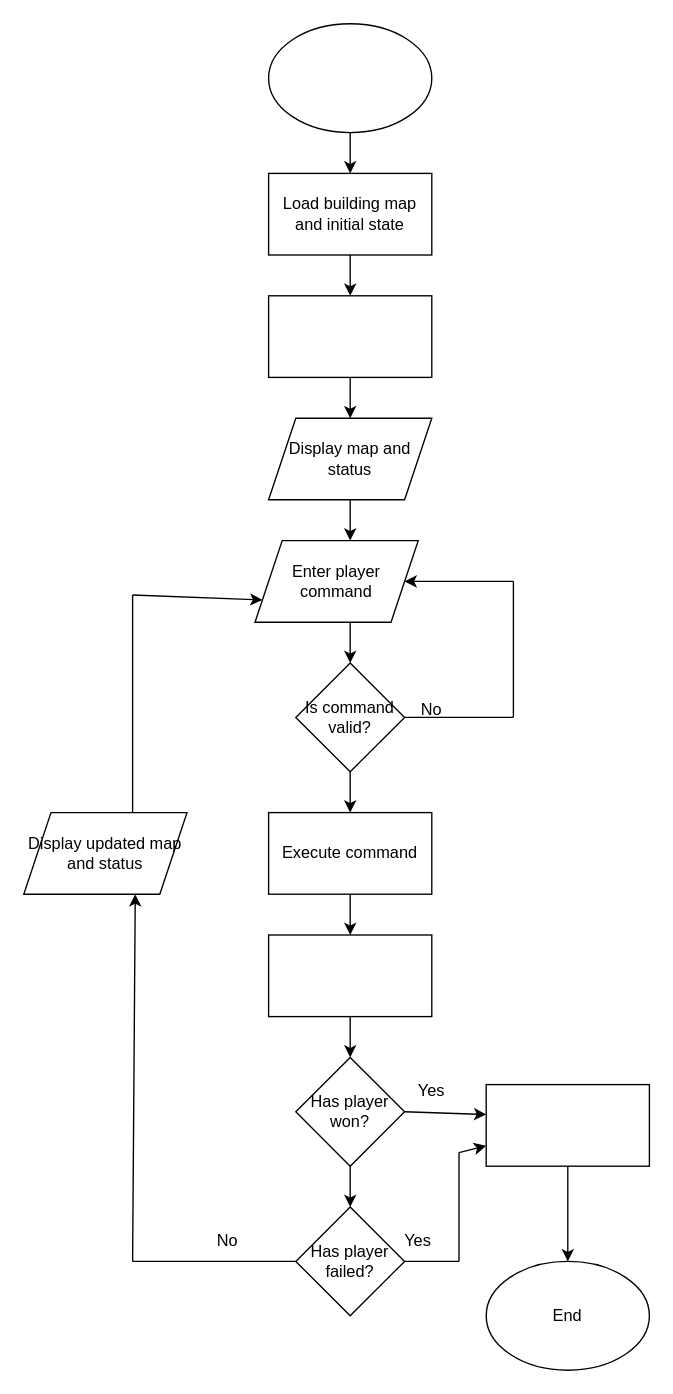
The diagram is 673 pixels wide and 1394 high, and some of its shapes have lost their labels. The centre of each missing label's shape, as x and y in pixels:
"Initialize player and resources" belongs at (x=349, y=335).
"Save game summary" belongs at (x=567, y=1124).
"Start" belongs at (x=349, y=77).
"Update time, energy and game state" belongs at (x=349, y=975).
